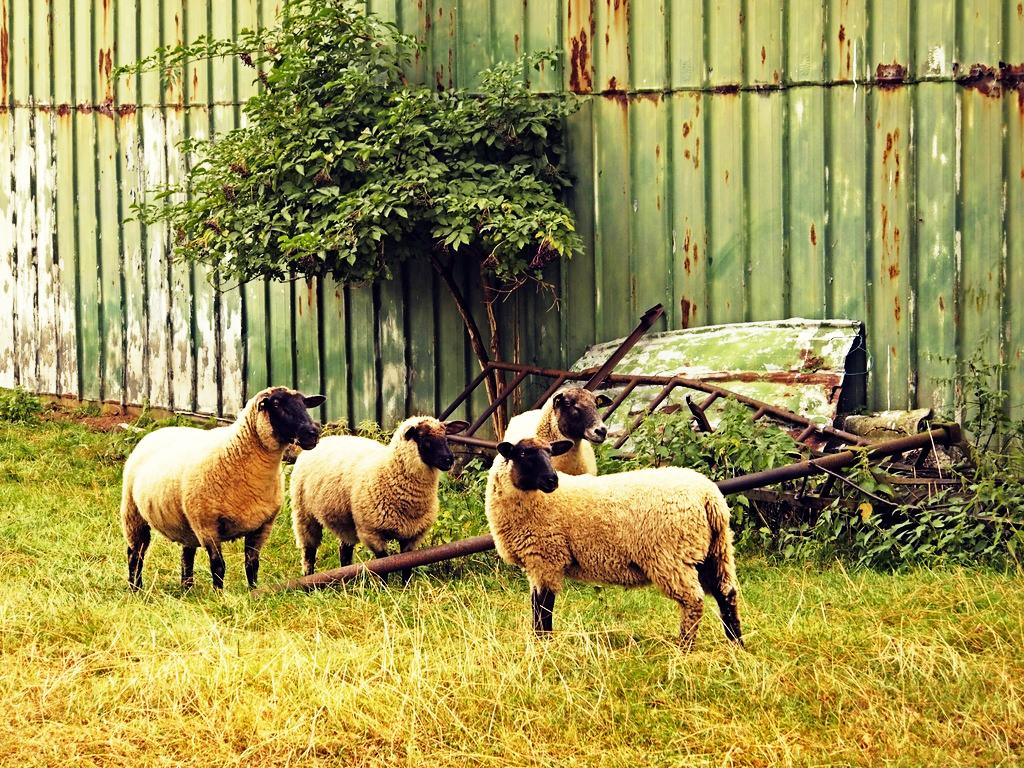Sheep: (482, 434, 744, 652), (123, 385, 329, 596), (290, 415, 472, 587), (502, 388, 612, 473)
